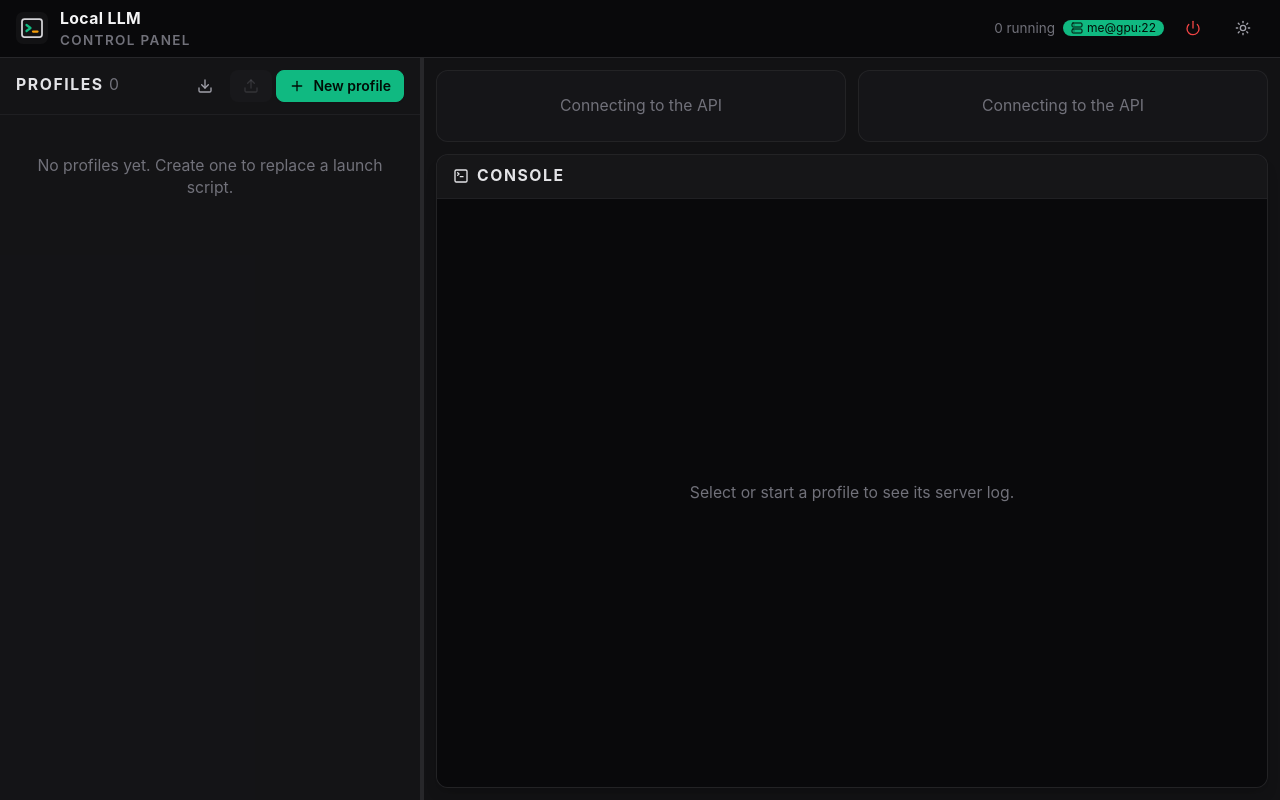
Test: App › shuts the host down after confirmation
Check: the text "me@gpu:22" is shown, box [1063, 20, 1164, 36]
Click the button named "Shut down host" at (1193, 28), box [1172, 12, 1214, 44]
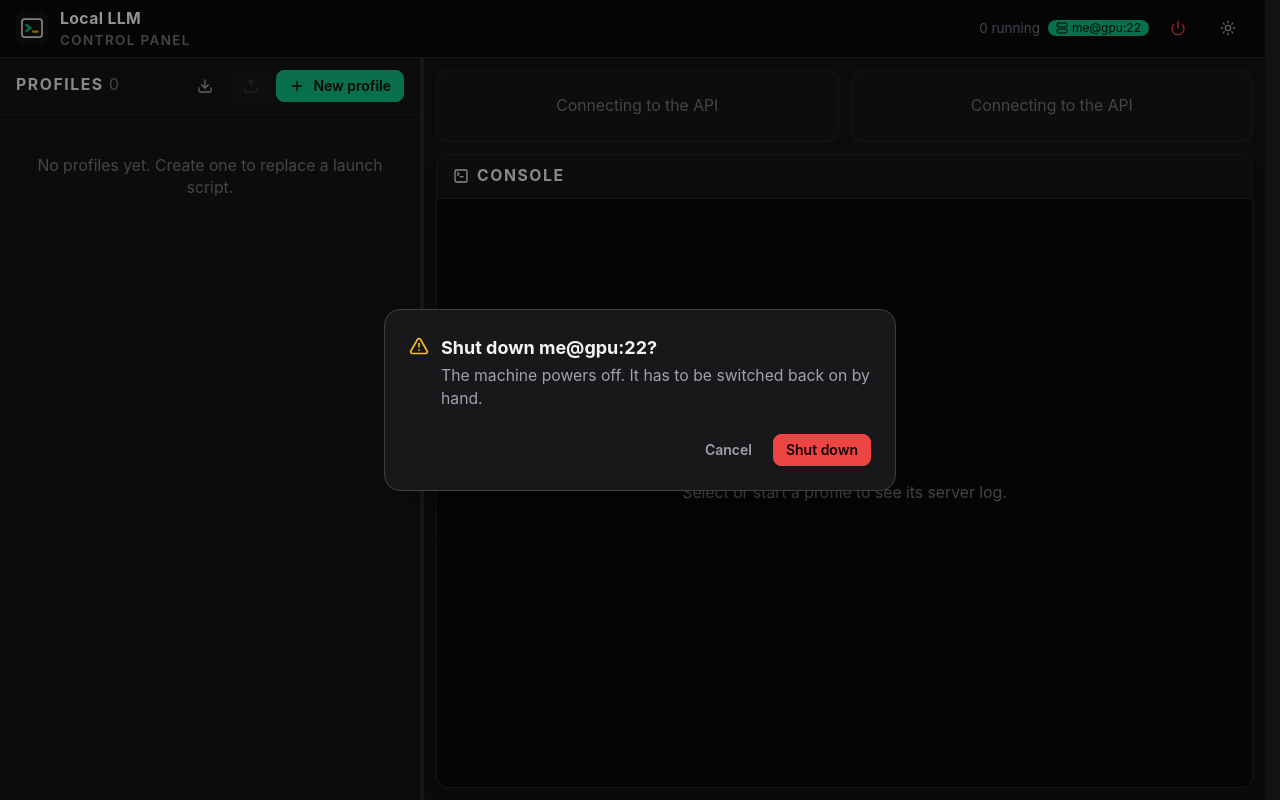
Click the button "Shut down" at (822, 450), box [773, 434, 871, 466]
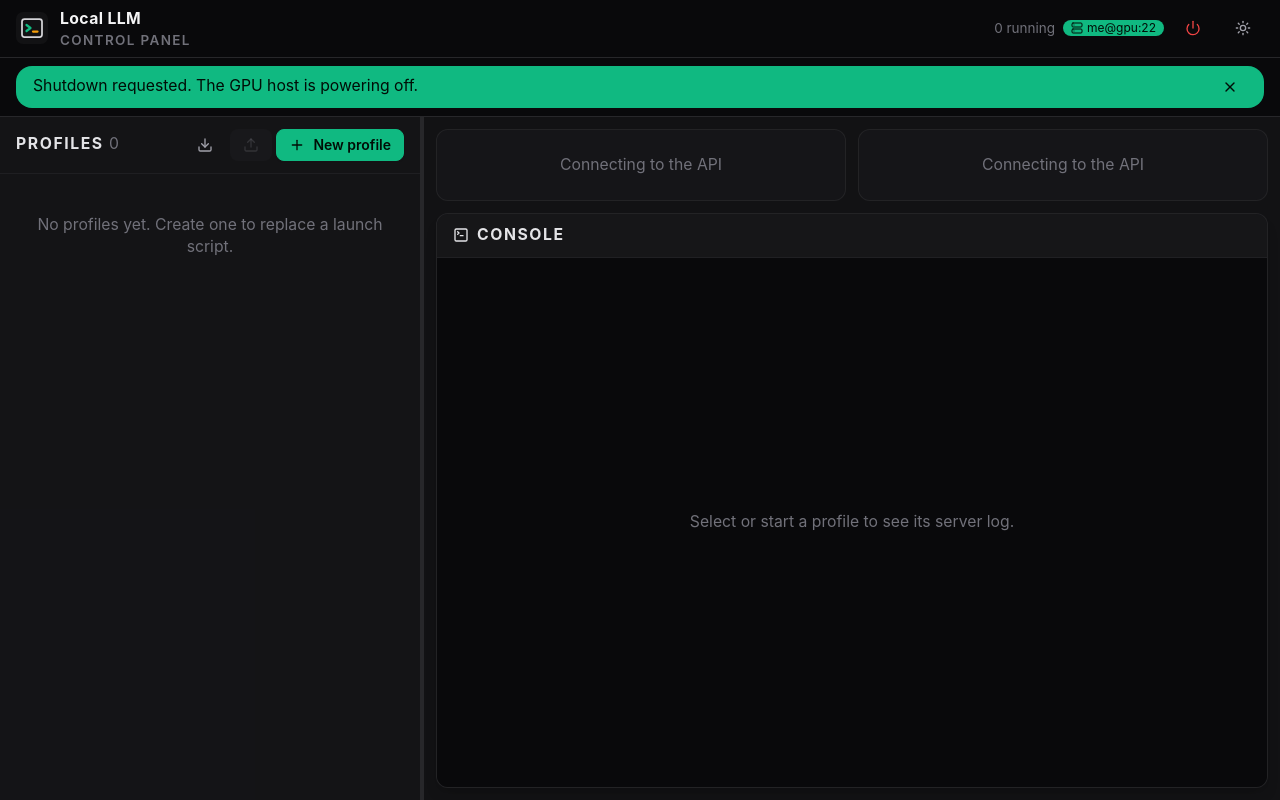
Check: the message shows "Shutdown requested", box [33, 76, 418, 95]
